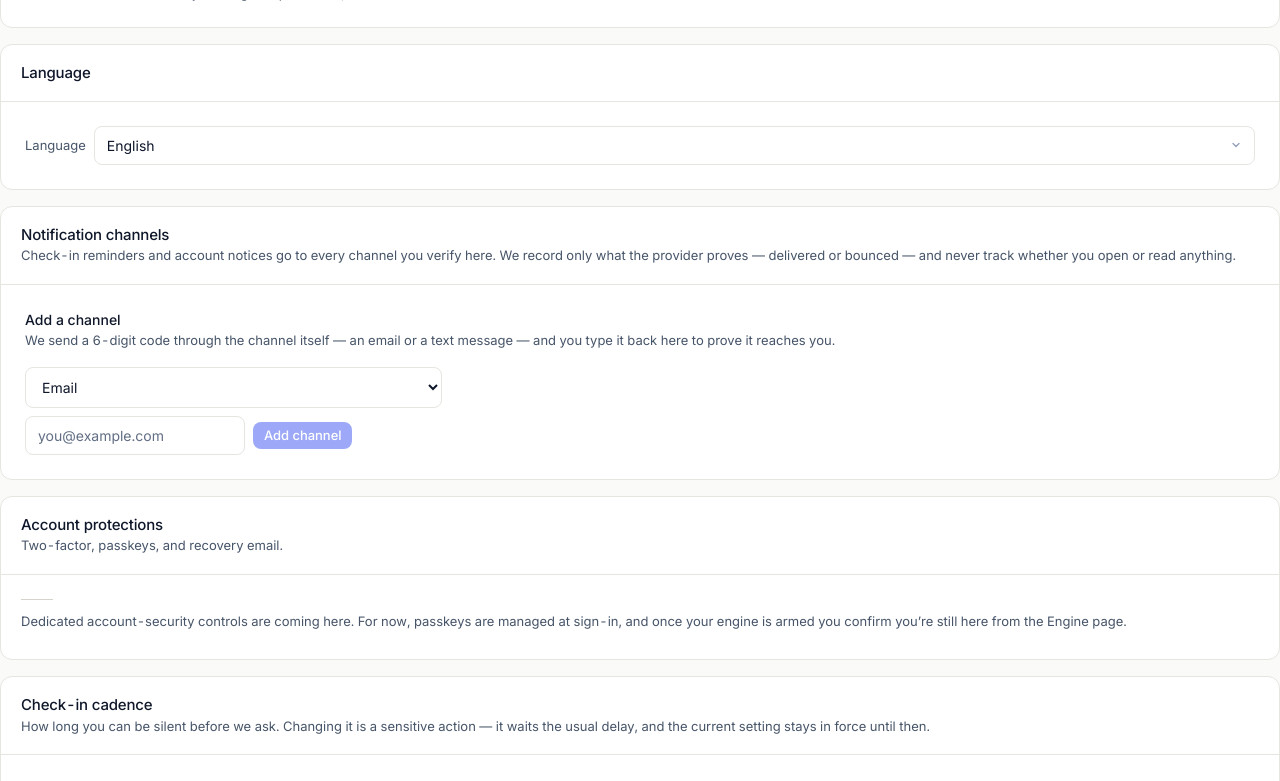
Test: Settings — notification channels (CV-0.0) › enrols an SMS channel via the type selector (CV-2)
(page scrolled)
Select "SMS" in the dropdown with test id "channel-add-type" at x=234, y=387, box [25,367,442,408]
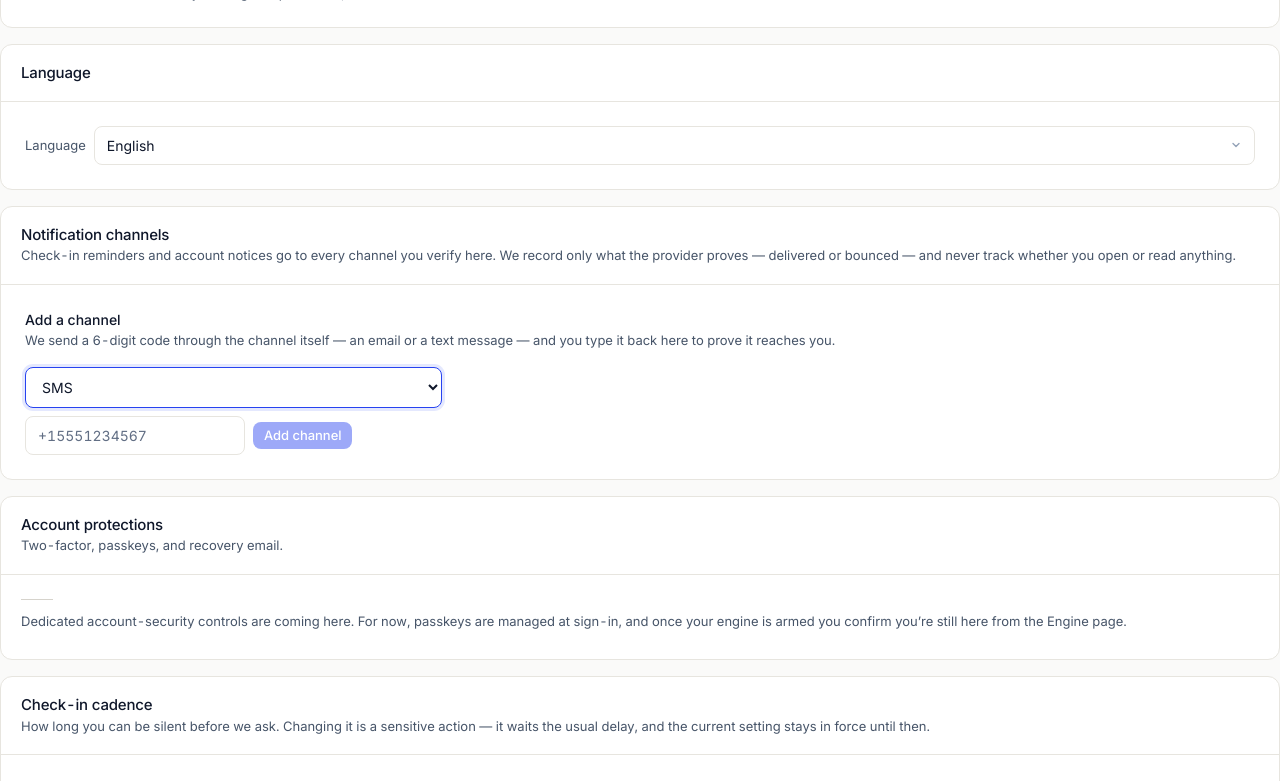
expect the button with test id "channel-add" is disabled: met, box [253,422,352,449]
Type "+15552223333" into the field with test id "channel-add-destination" at x=135, y=435, box [25,416,245,455]
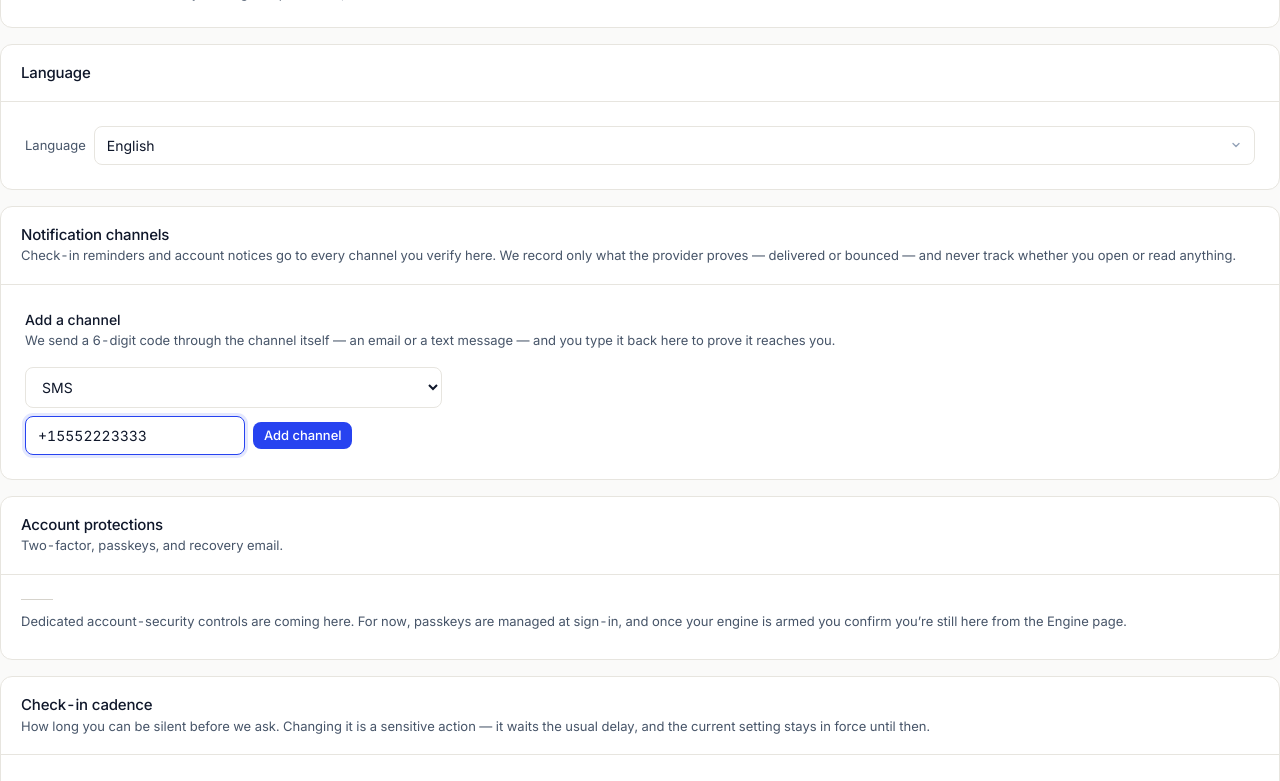
Click the button with test id "channel-add" at x=303, y=435, box [253,422,352,449]
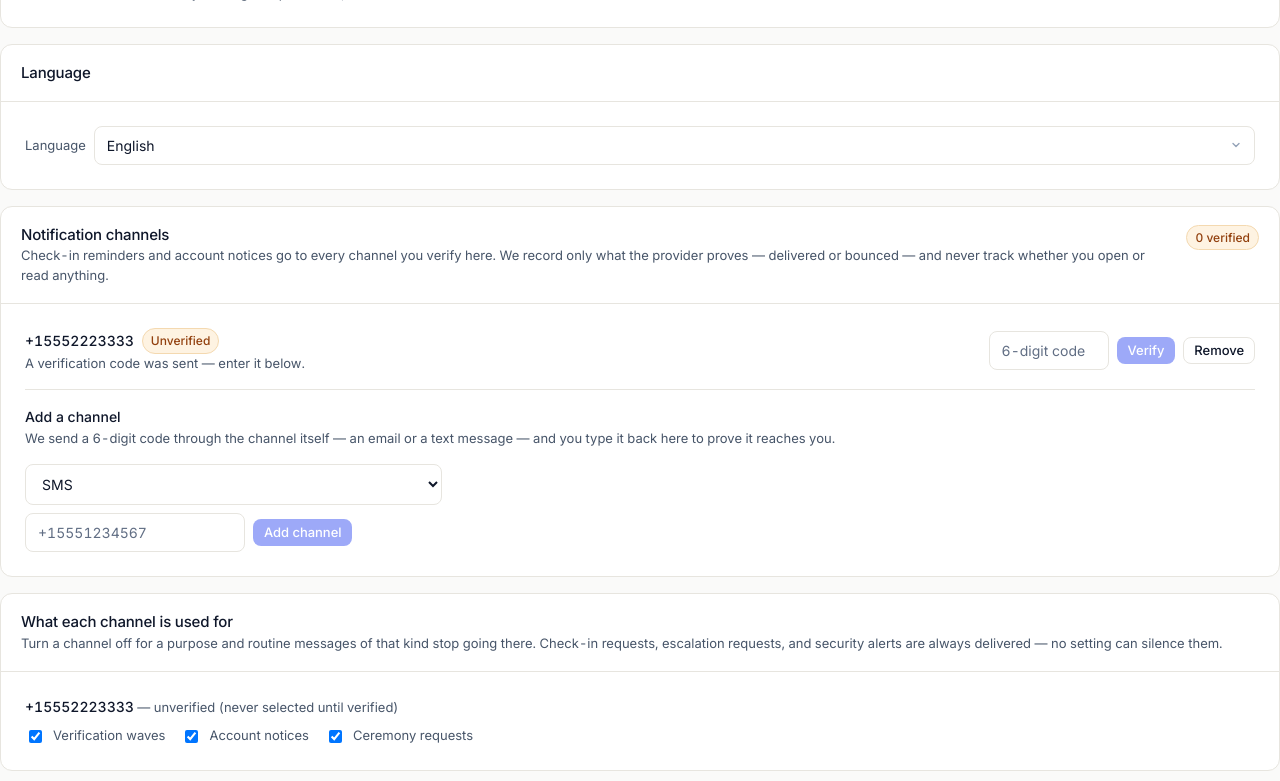
expect the text "+15552223333" is shown: met, box [25,330,134,352]
expect the field with test id "channel-code-ch-1" is shown: met, box [989,331,1109,370]
